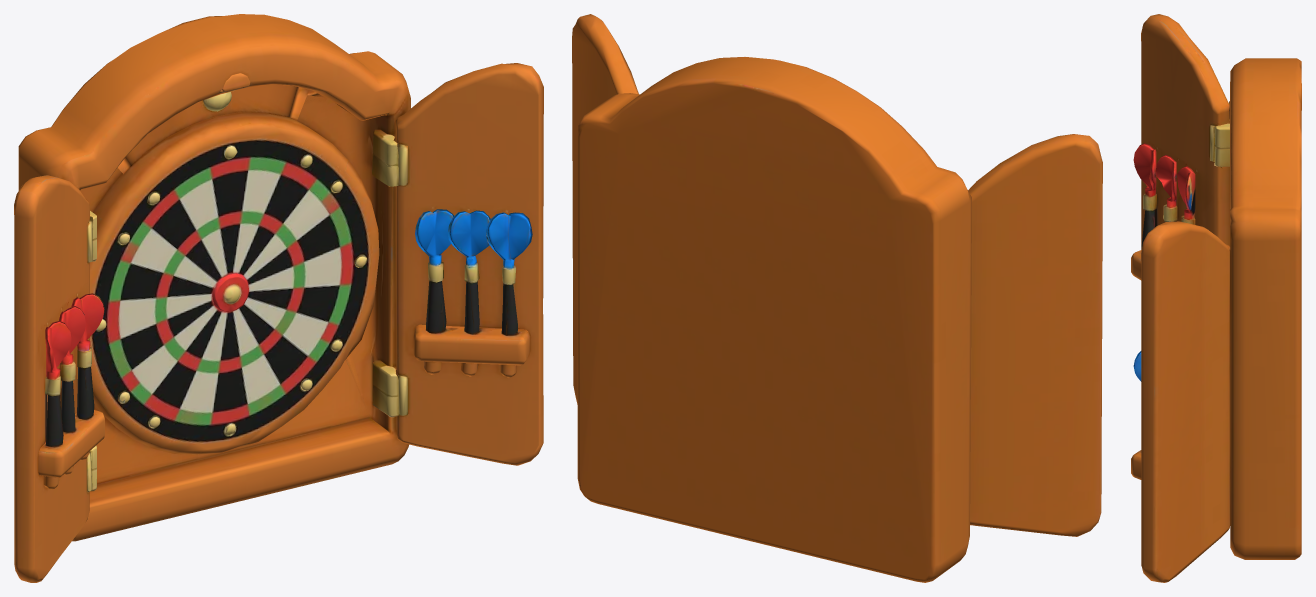
Rendered from bar-dartboard.glb.
The picture shows the model from 3 angles, left to right: view 1: azimuth 30°, elevation 25°; view 2: azimuth 150°, elevation 25°; view 3: azimuth 270°, elevation 25°; orthographic projection. The views are drawn at different scales.
Size of the model in its own units: 0.9526 by 0.7925 by 0.2994.
1 material, 1 textured.
